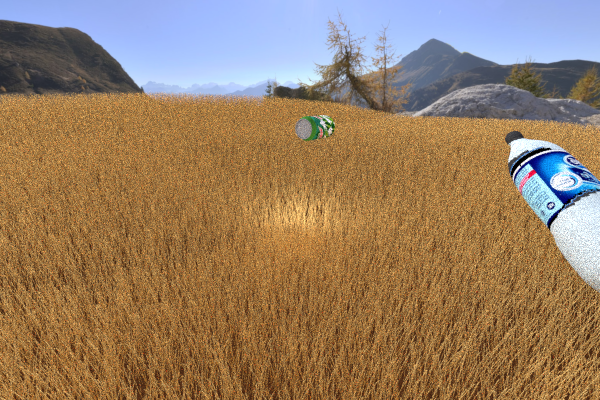bottle: (503, 130, 600, 306)
can: (418, 121, 471, 146), (154, 102, 193, 121)
